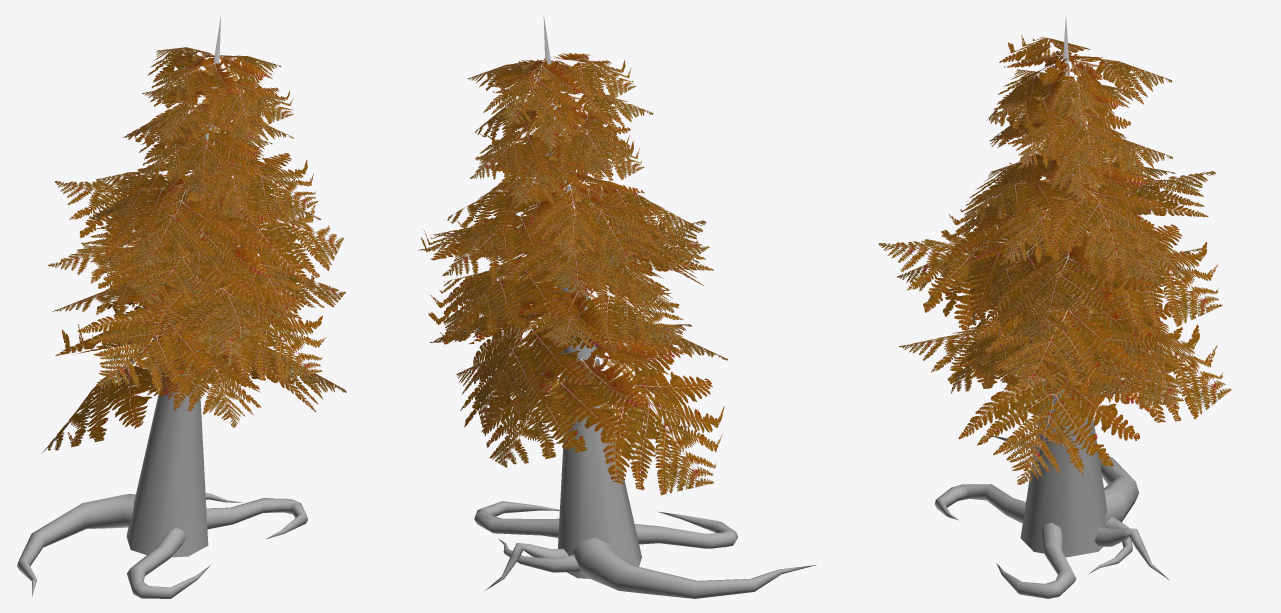
The model's file is air_treeGeneric_02_mesh.fbx.
The picture shows the model from 3 angles, left to right: view 1: azimuth 30°, elevation 25°; view 2: azimuth 150°, elevation 25°; view 3: azimuth 270°, elevation 25°; orthographic projection. The views are drawn at different scales.
Parts seen in each view (by area): view 1: air_treeGeneric_02_mesh; view 2: air_treeGeneric_02_mesh; view 3: air_treeGeneric_02_mesh.
Part boxes in pixels (left/top/right/bottom): air_treeGeneric_02_mesh: left=17, top=16, right=346, bottom=598; air_treeGeneric_02_mesh: left=418, top=15, right=816, bottom=598; air_treeGeneric_02_mesh: left=878, top=16, right=1231, bottom=598.
Size of the model in its own units: 1839 by 2694 by 1825.
